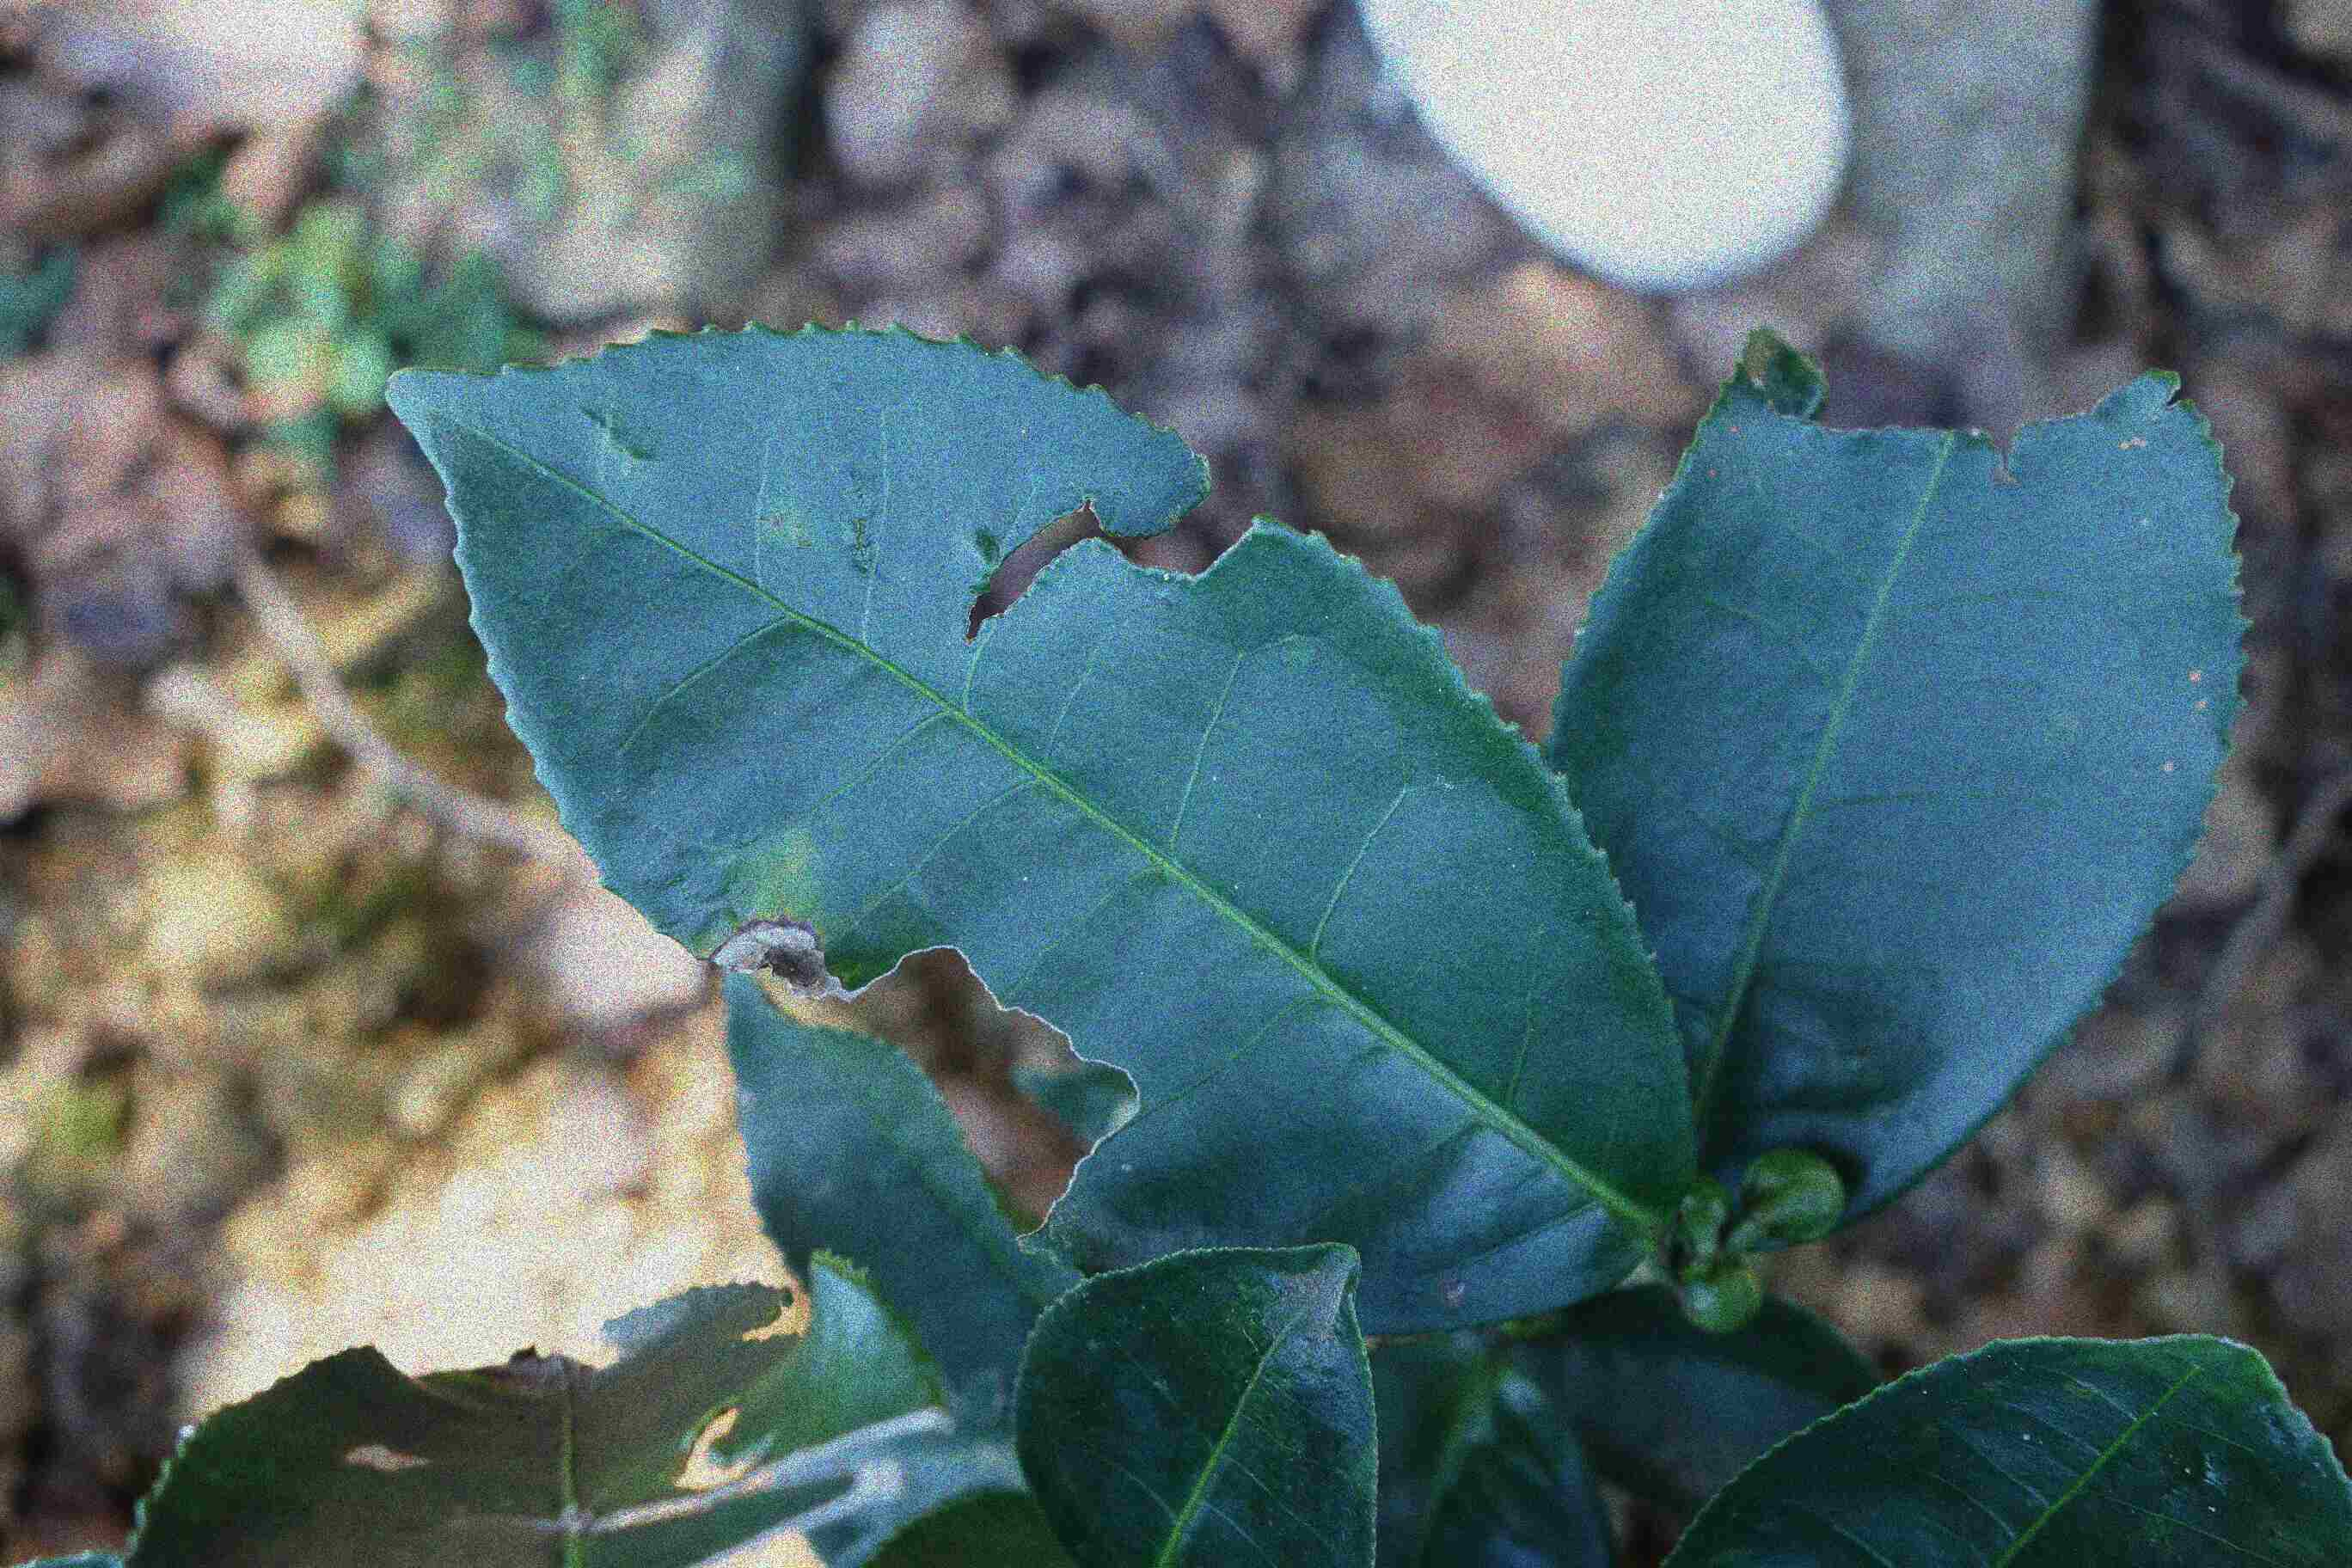chihuo_high: (385, 313, 1703, 1339), (1547, 369, 2254, 1249), (126, 1251, 961, 1566)
